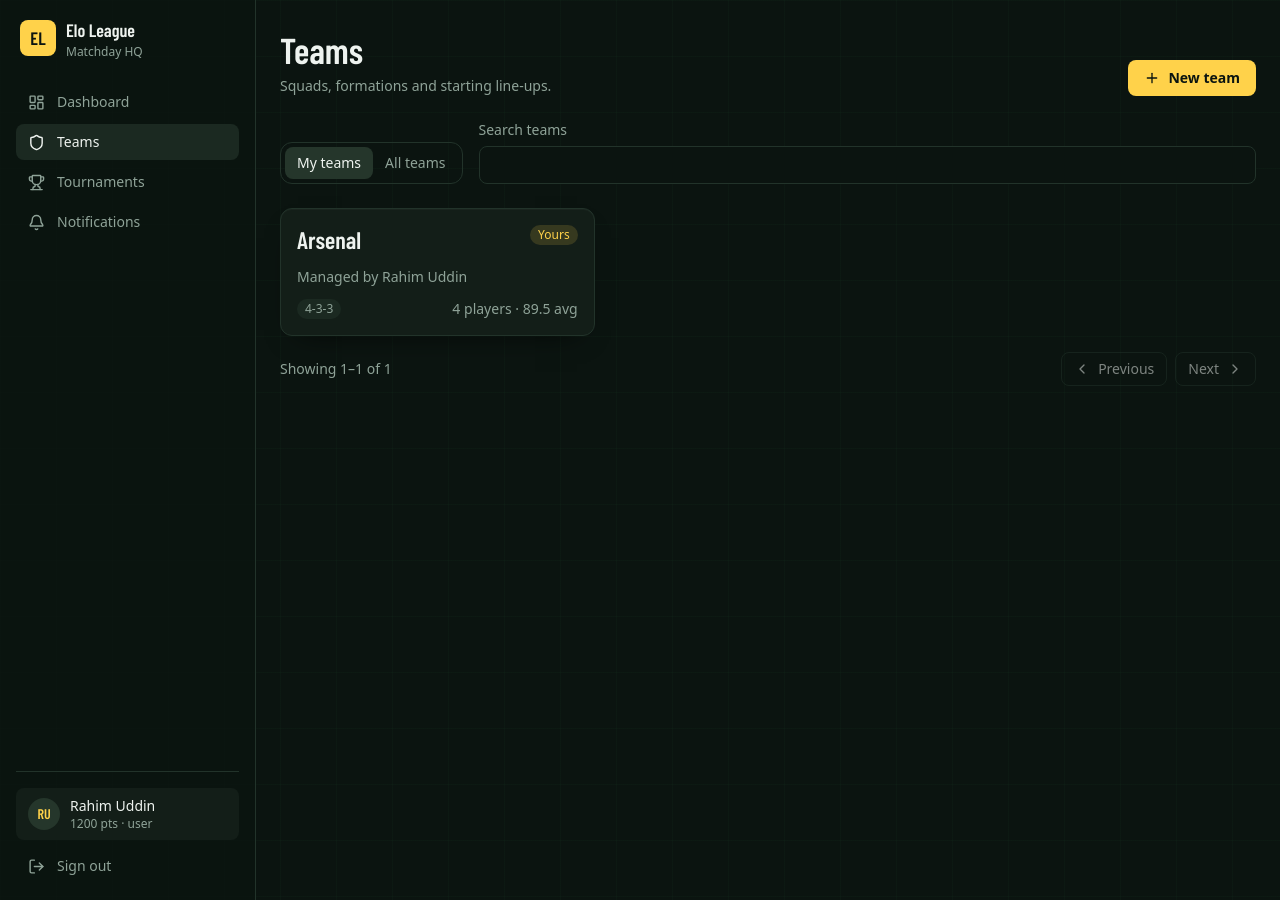
Test case: creating a team › creates the team and opens its page
Click the button "New team": point(1192, 78) [1128,60,1256,96]
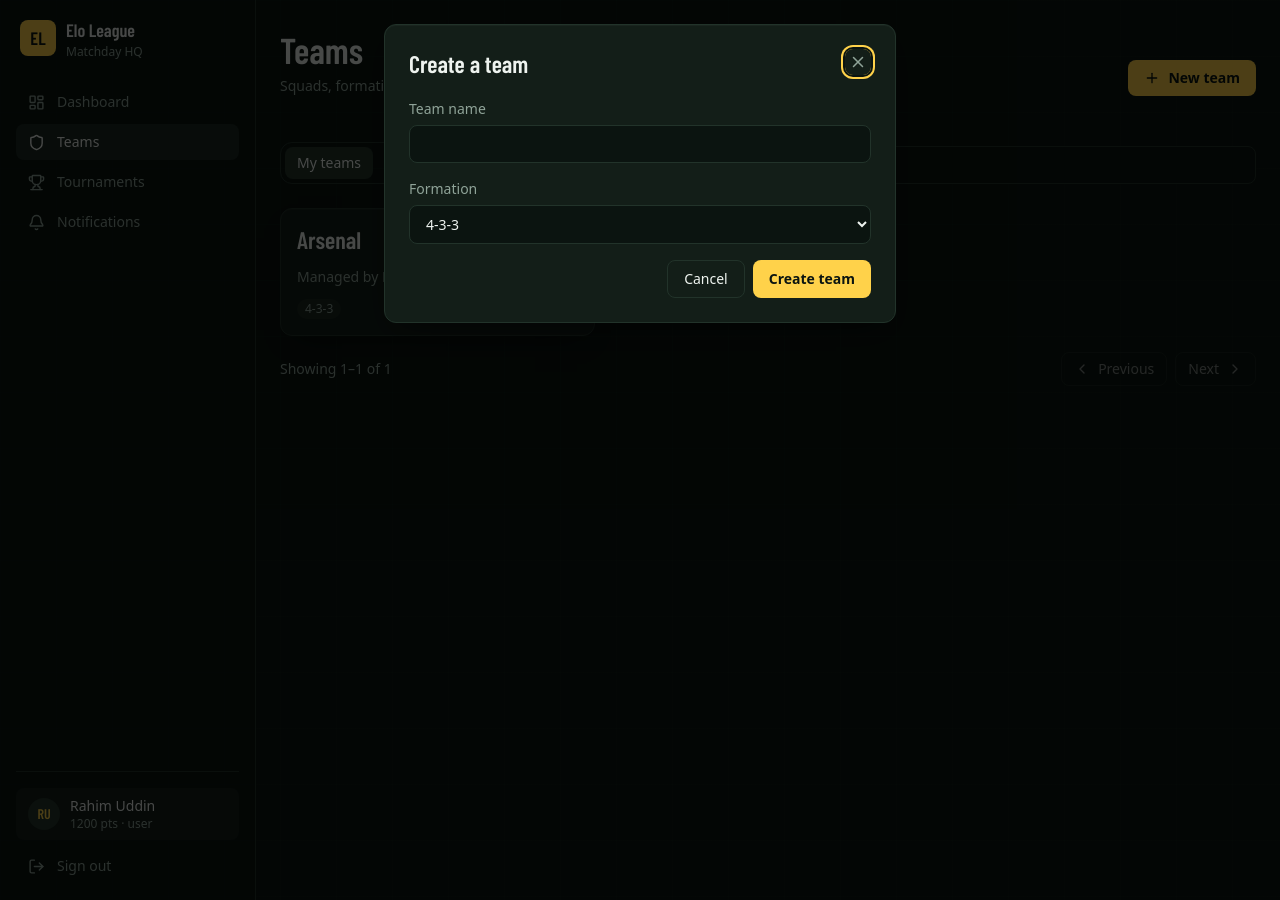
In the field labelled "Team name": point(640, 144) [409,125,871,163], type "  Red Devils "
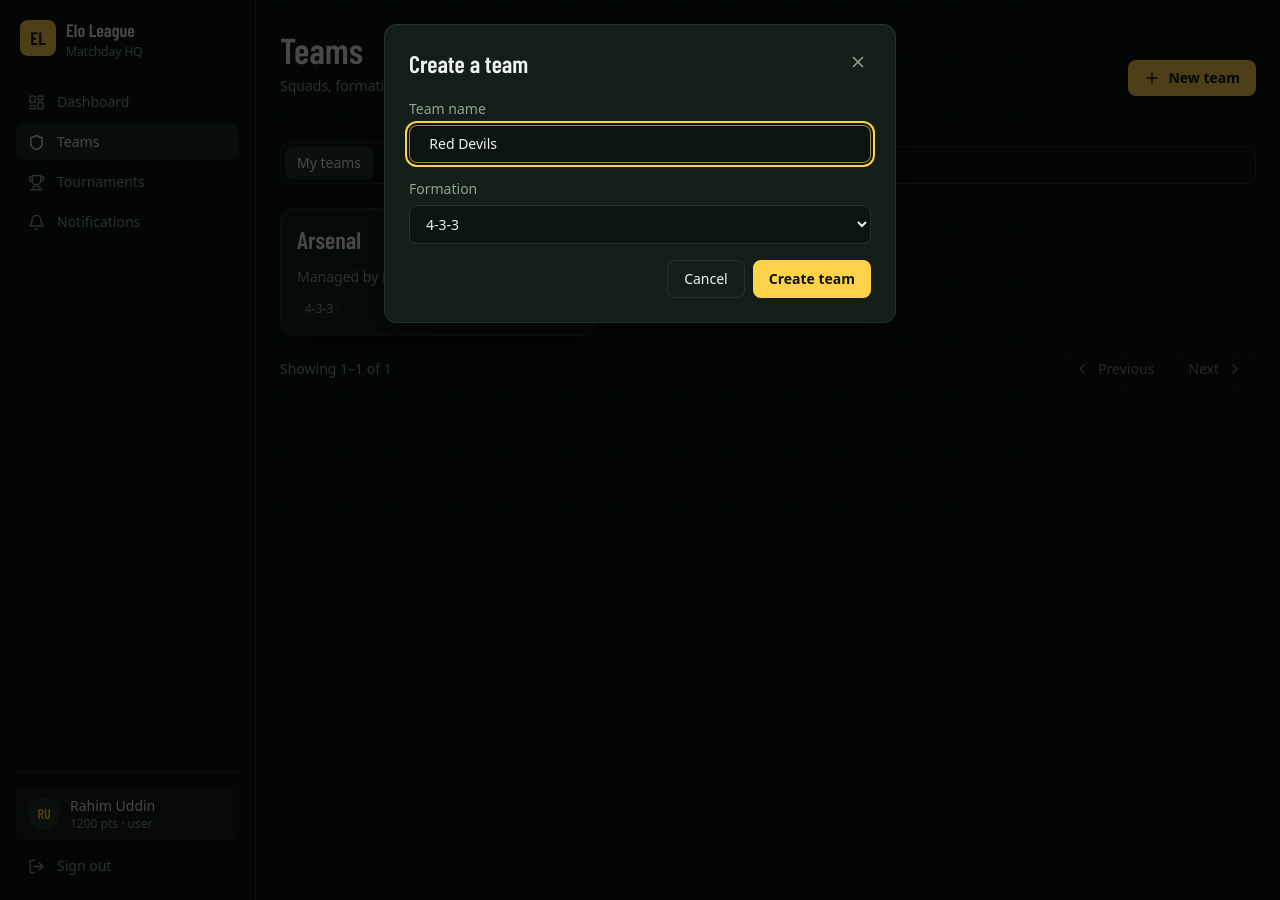
Select "4-4-2" in the dropdown labelled "Formation": point(640, 224) [409,205,871,244]
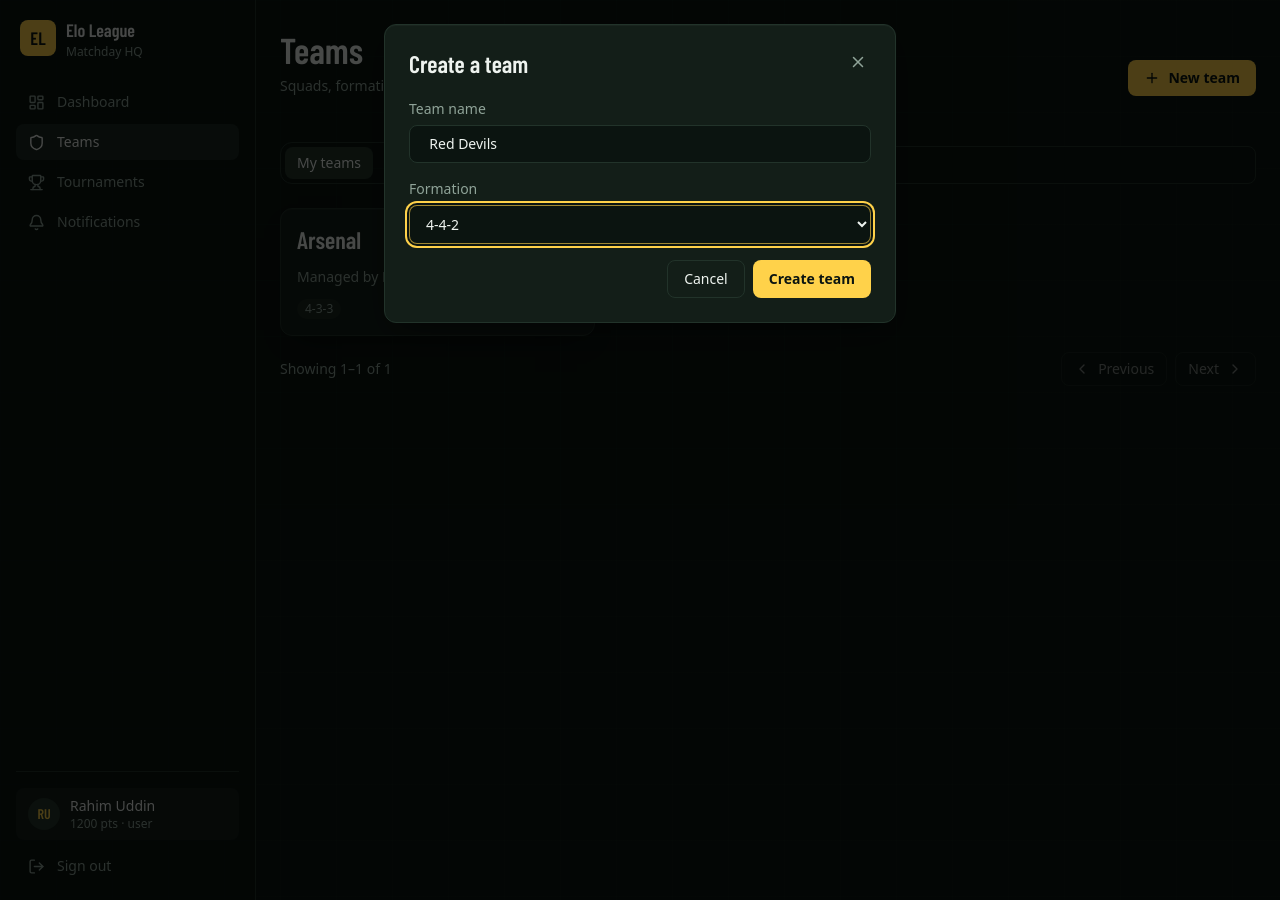
Click the button "Create team": point(812, 279) [753,260,871,298]
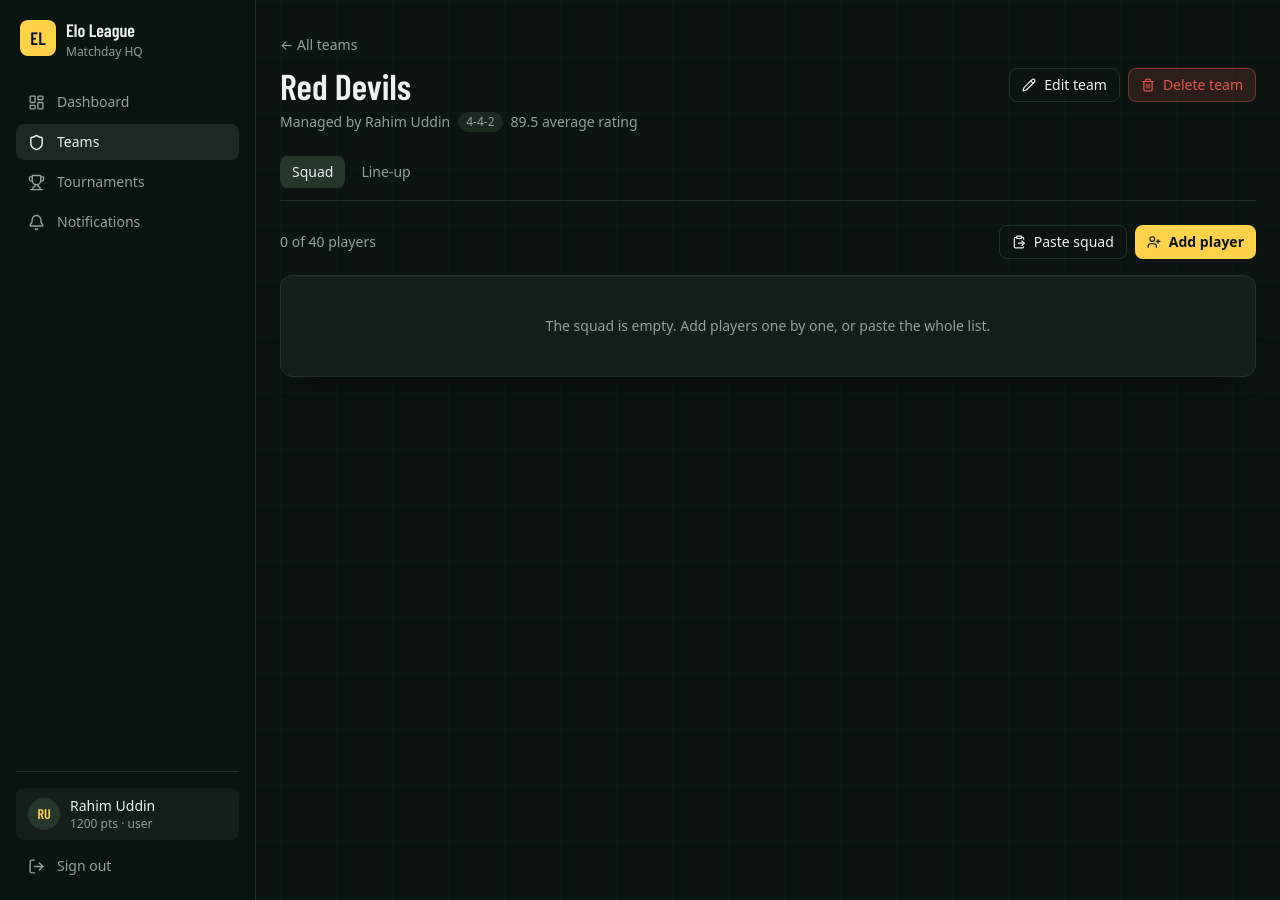
Check: the heading "Red Devils" is shown, box [280,64,411,107]
